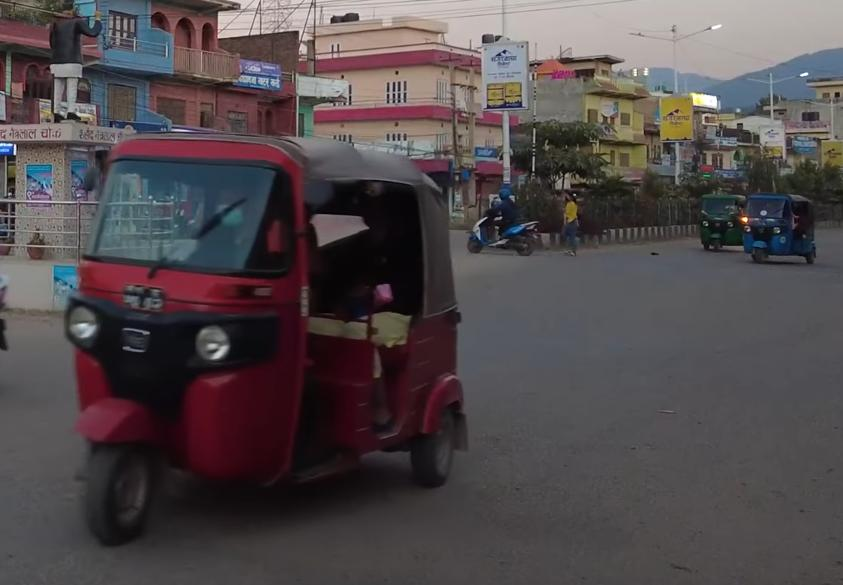auto_rickshaw: (56, 123, 484, 553)
